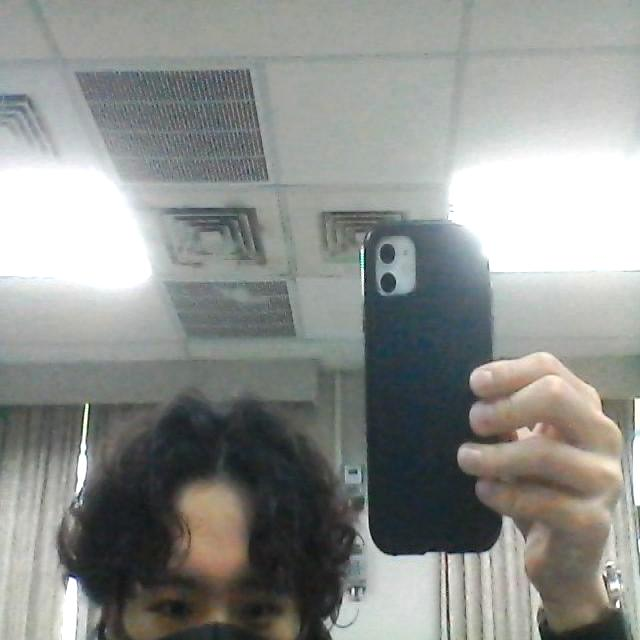phone: (354, 204, 506, 568)
